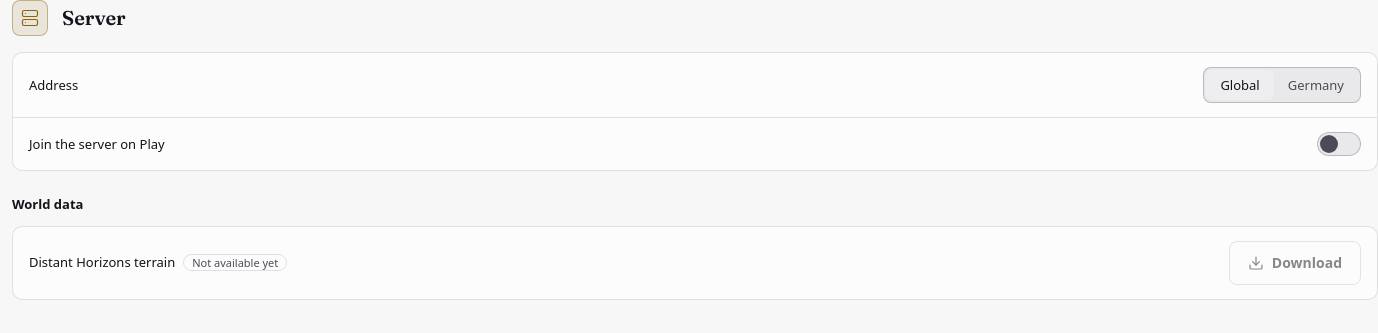
The Server section of a chapter settings page › clears a refusal once a later save goes through
Click the switch named "Join the server on Play" at point(1339, 144), box x1=1317 y1=132 x2=1361 y2=156
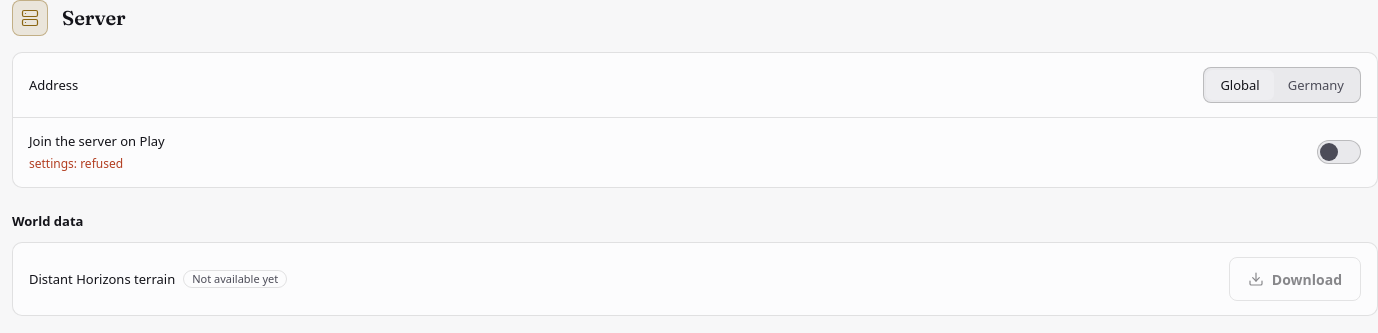
Expected: the message reads "settings: refused", x1=29 y1=155 x2=123 y2=172
Click the switch named "Join the server on Play" at point(1339, 152), box x1=1317 y1=140 x2=1361 y2=164
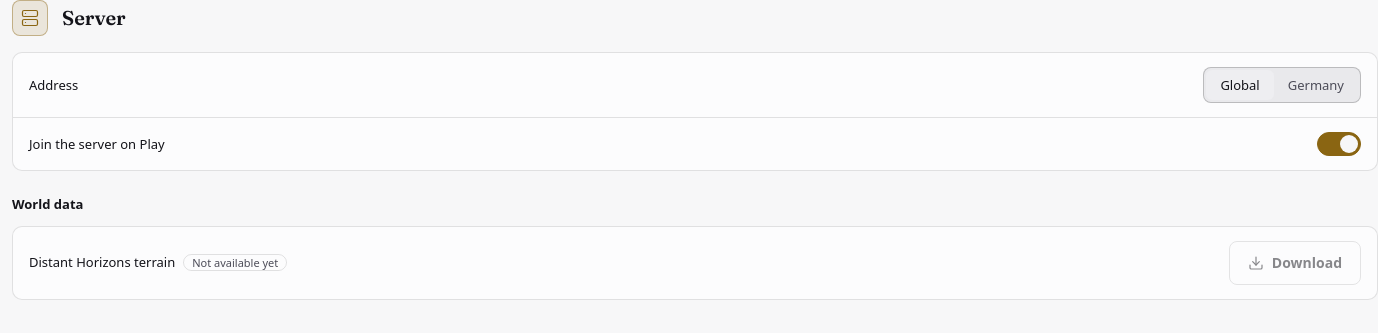
Expected: the switch named "Join the server on Play" is checked, x1=1317 y1=132 x2=1361 y2=156
Expected: the message "settings: refused" is gone
